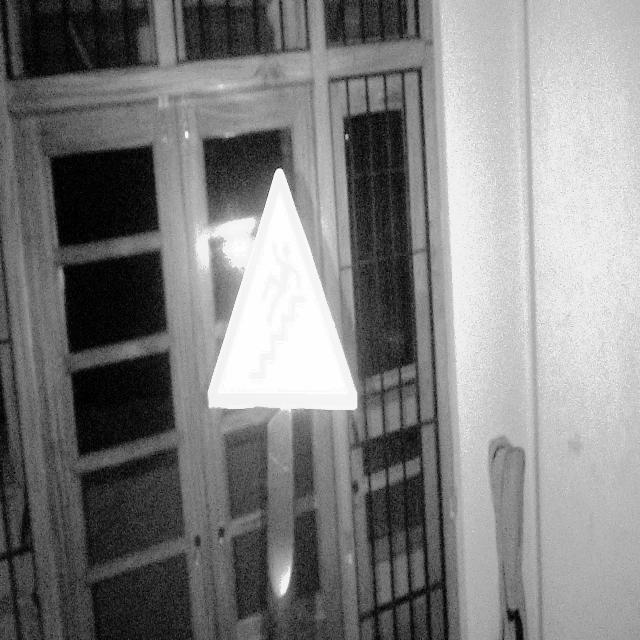Sign: (204, 167, 360, 413)
